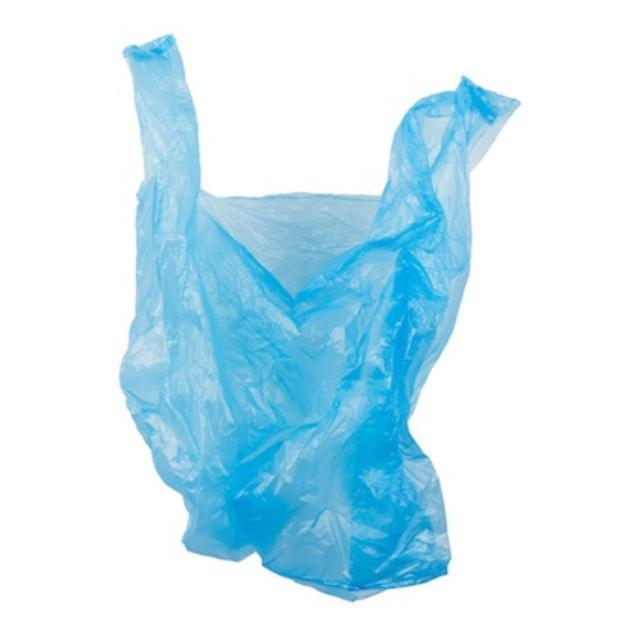plastic: (120, 36, 517, 599)
